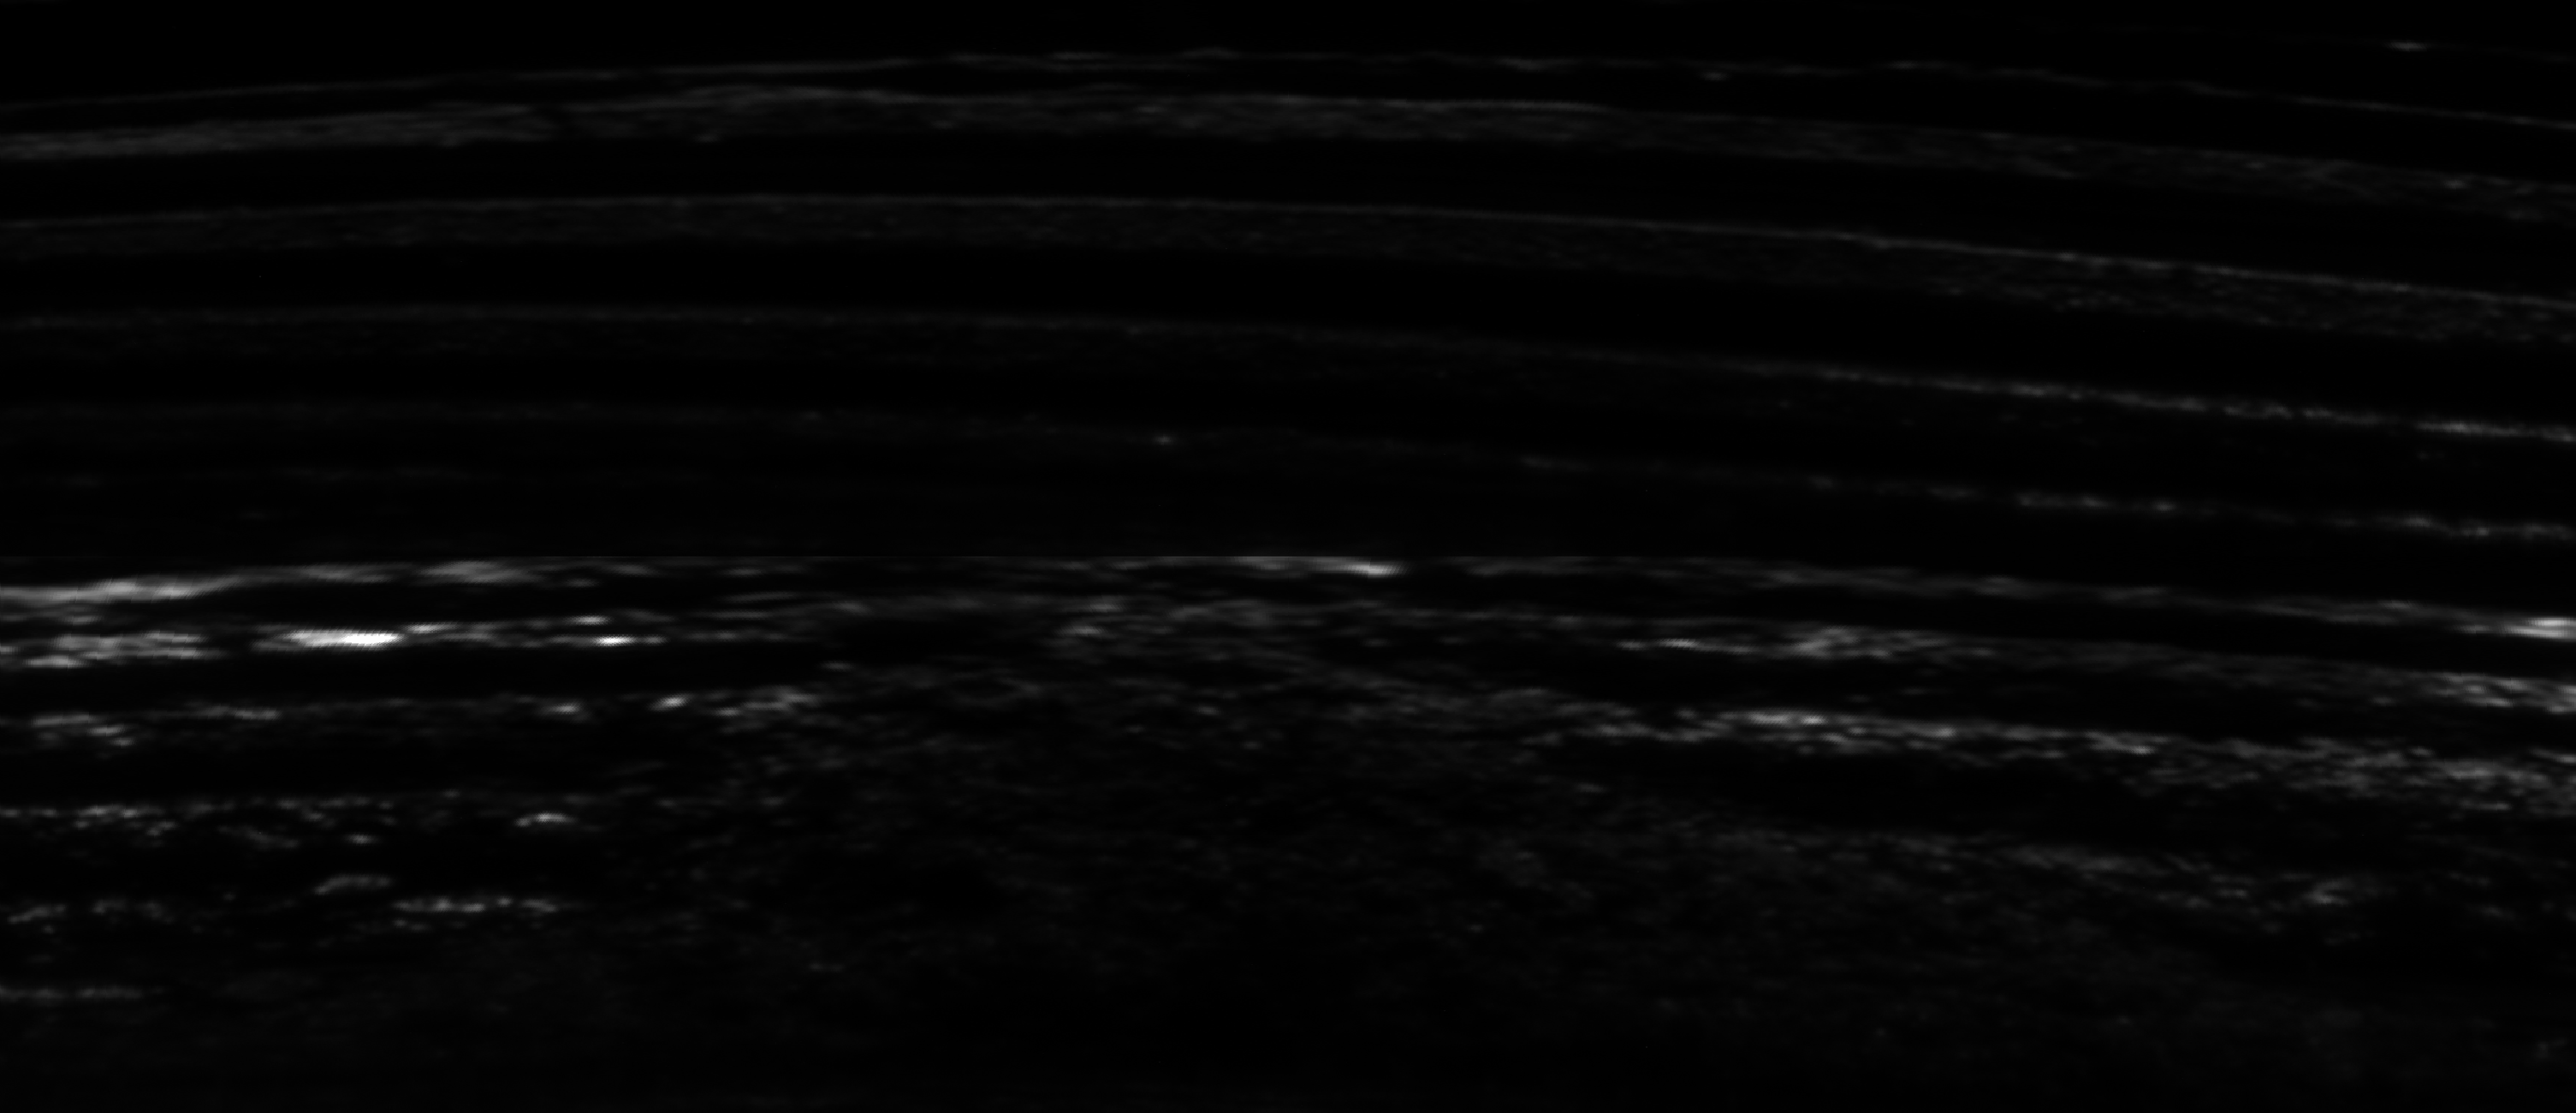extensive corrosion: (25, 590, 2576, 1082)
